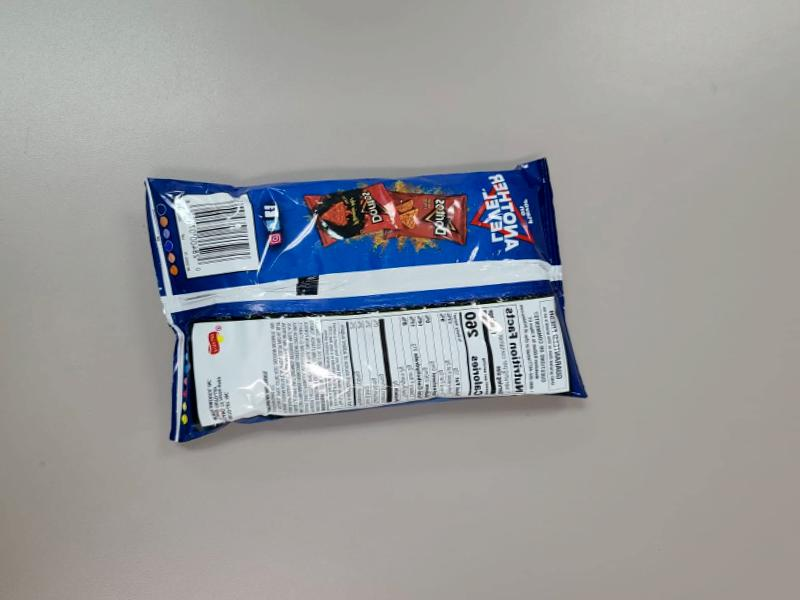doritos: (138, 143, 599, 444)
